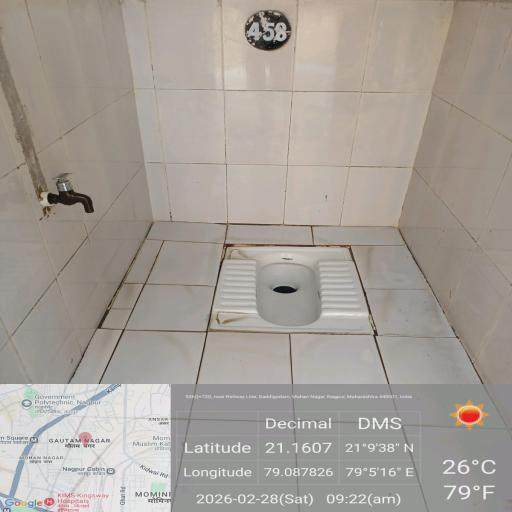clean_floor: (99, 198, 467, 512), (87, 62, 440, 174)
clean_indian: (216, 252, 362, 346)
